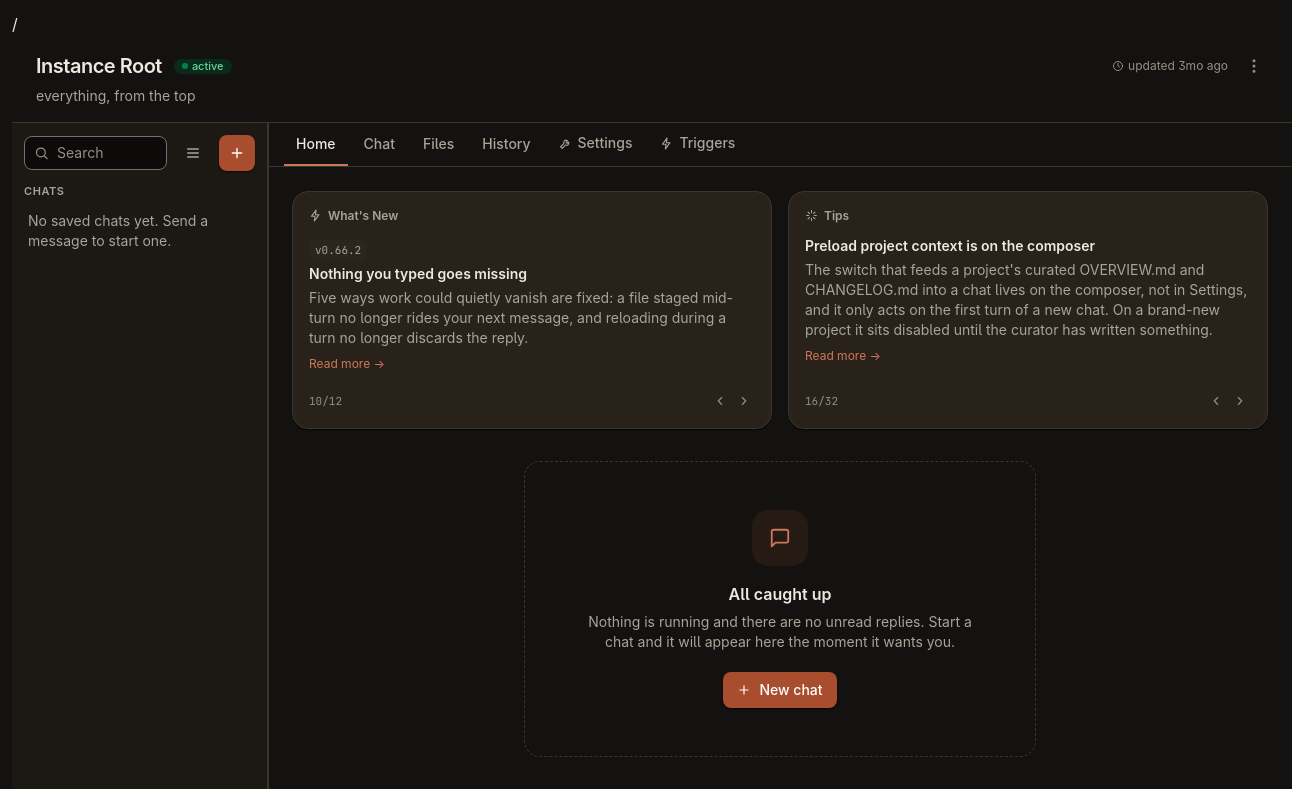
Test: ProjectView root (#516) › offers the overflow menu WITHOUT Delete — the root cannot be deleted
Click the button named "project actions" at point(1254, 66), box [1240,52,1268,80]
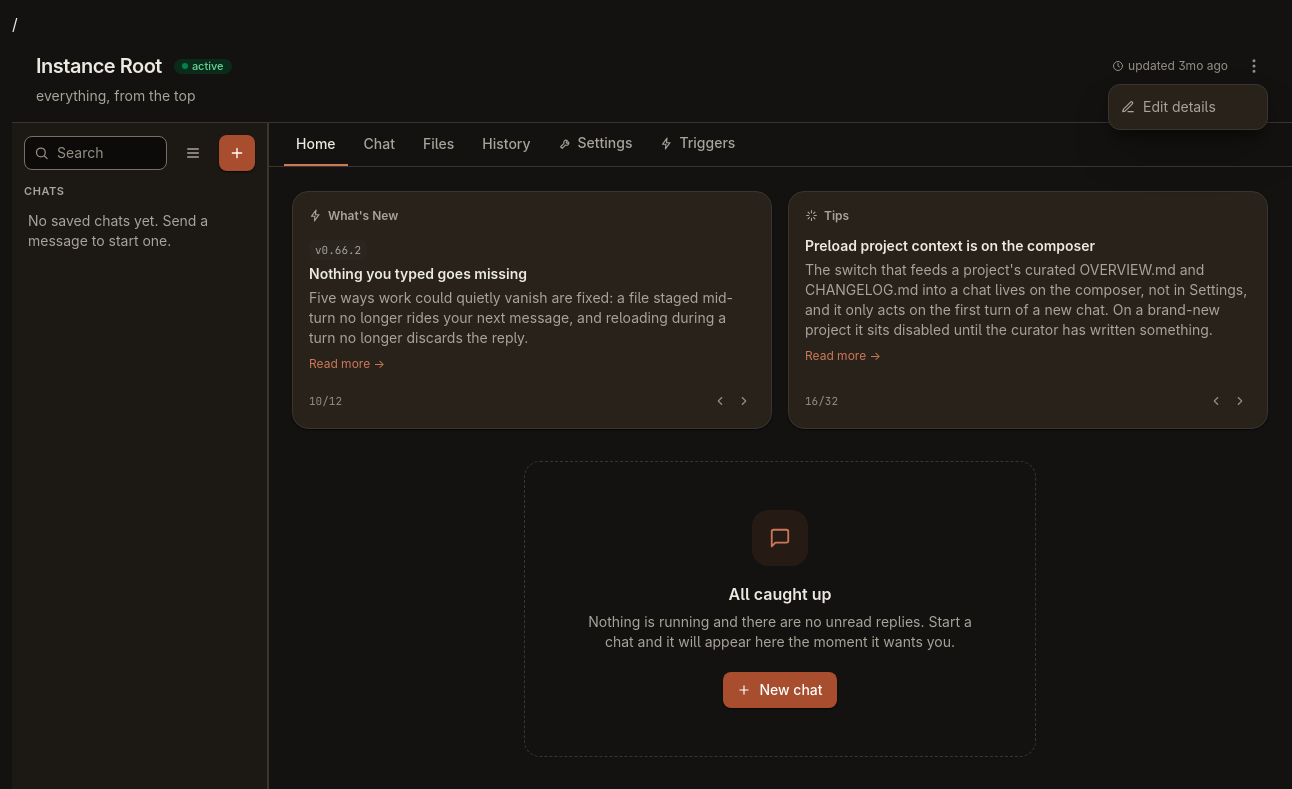
Expected: the menu item "Edit details" is shown, [1109,89,1267,125]
